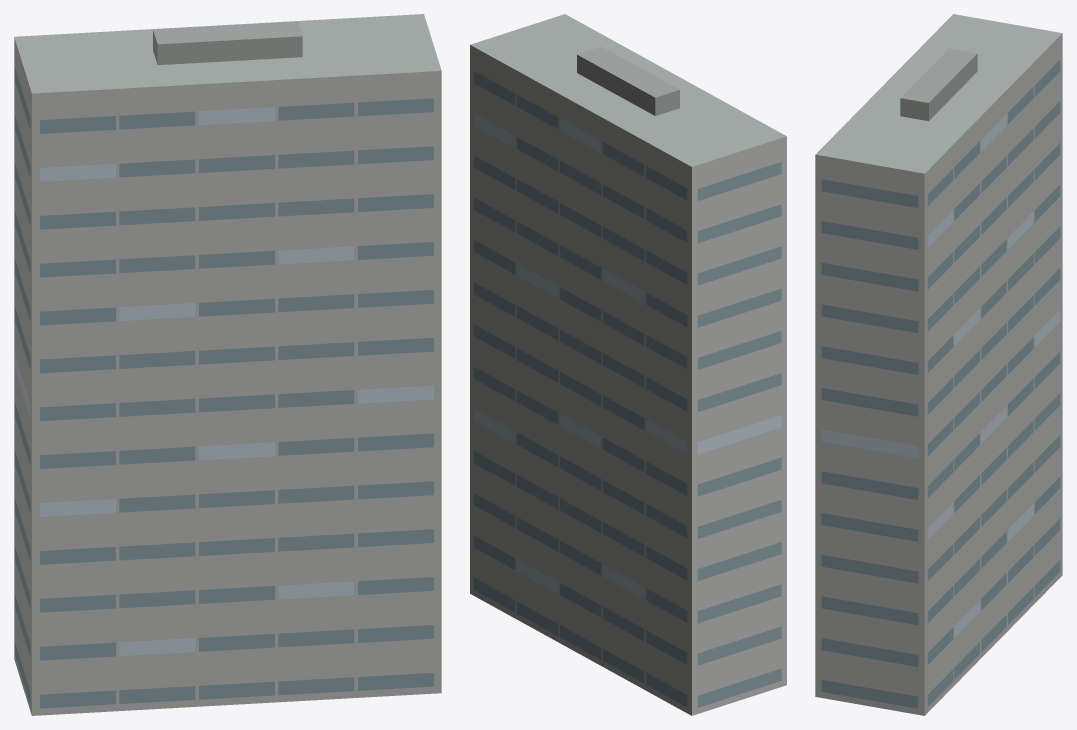
The model's file is fallback-jamsil-els-168.glb.
3 renders of one model, left to right at view 1: azimuth 30°, elevation 25°; view 2: azimuth 150°, elevation 25°; view 3: azimuth 270°, elevation 25°, orthographic. The views are drawn at different scales.
Visible parts, largest first — view 1: fallback-jamsil-els-168; view 2: fallback-jamsil-els-168; view 3: fallback-jamsil-els-168.
Part boxes in pixels (bbox=[...]): fallback-jamsil-els-168: bbox=[14, 14, 441, 715]; fallback-jamsil-els-168: bbox=[470, 14, 786, 715]; fallback-jamsil-els-168: bbox=[815, 14, 1062, 715].
Bounding box in the file's own units: 45.23 × 74 × 29.58.
